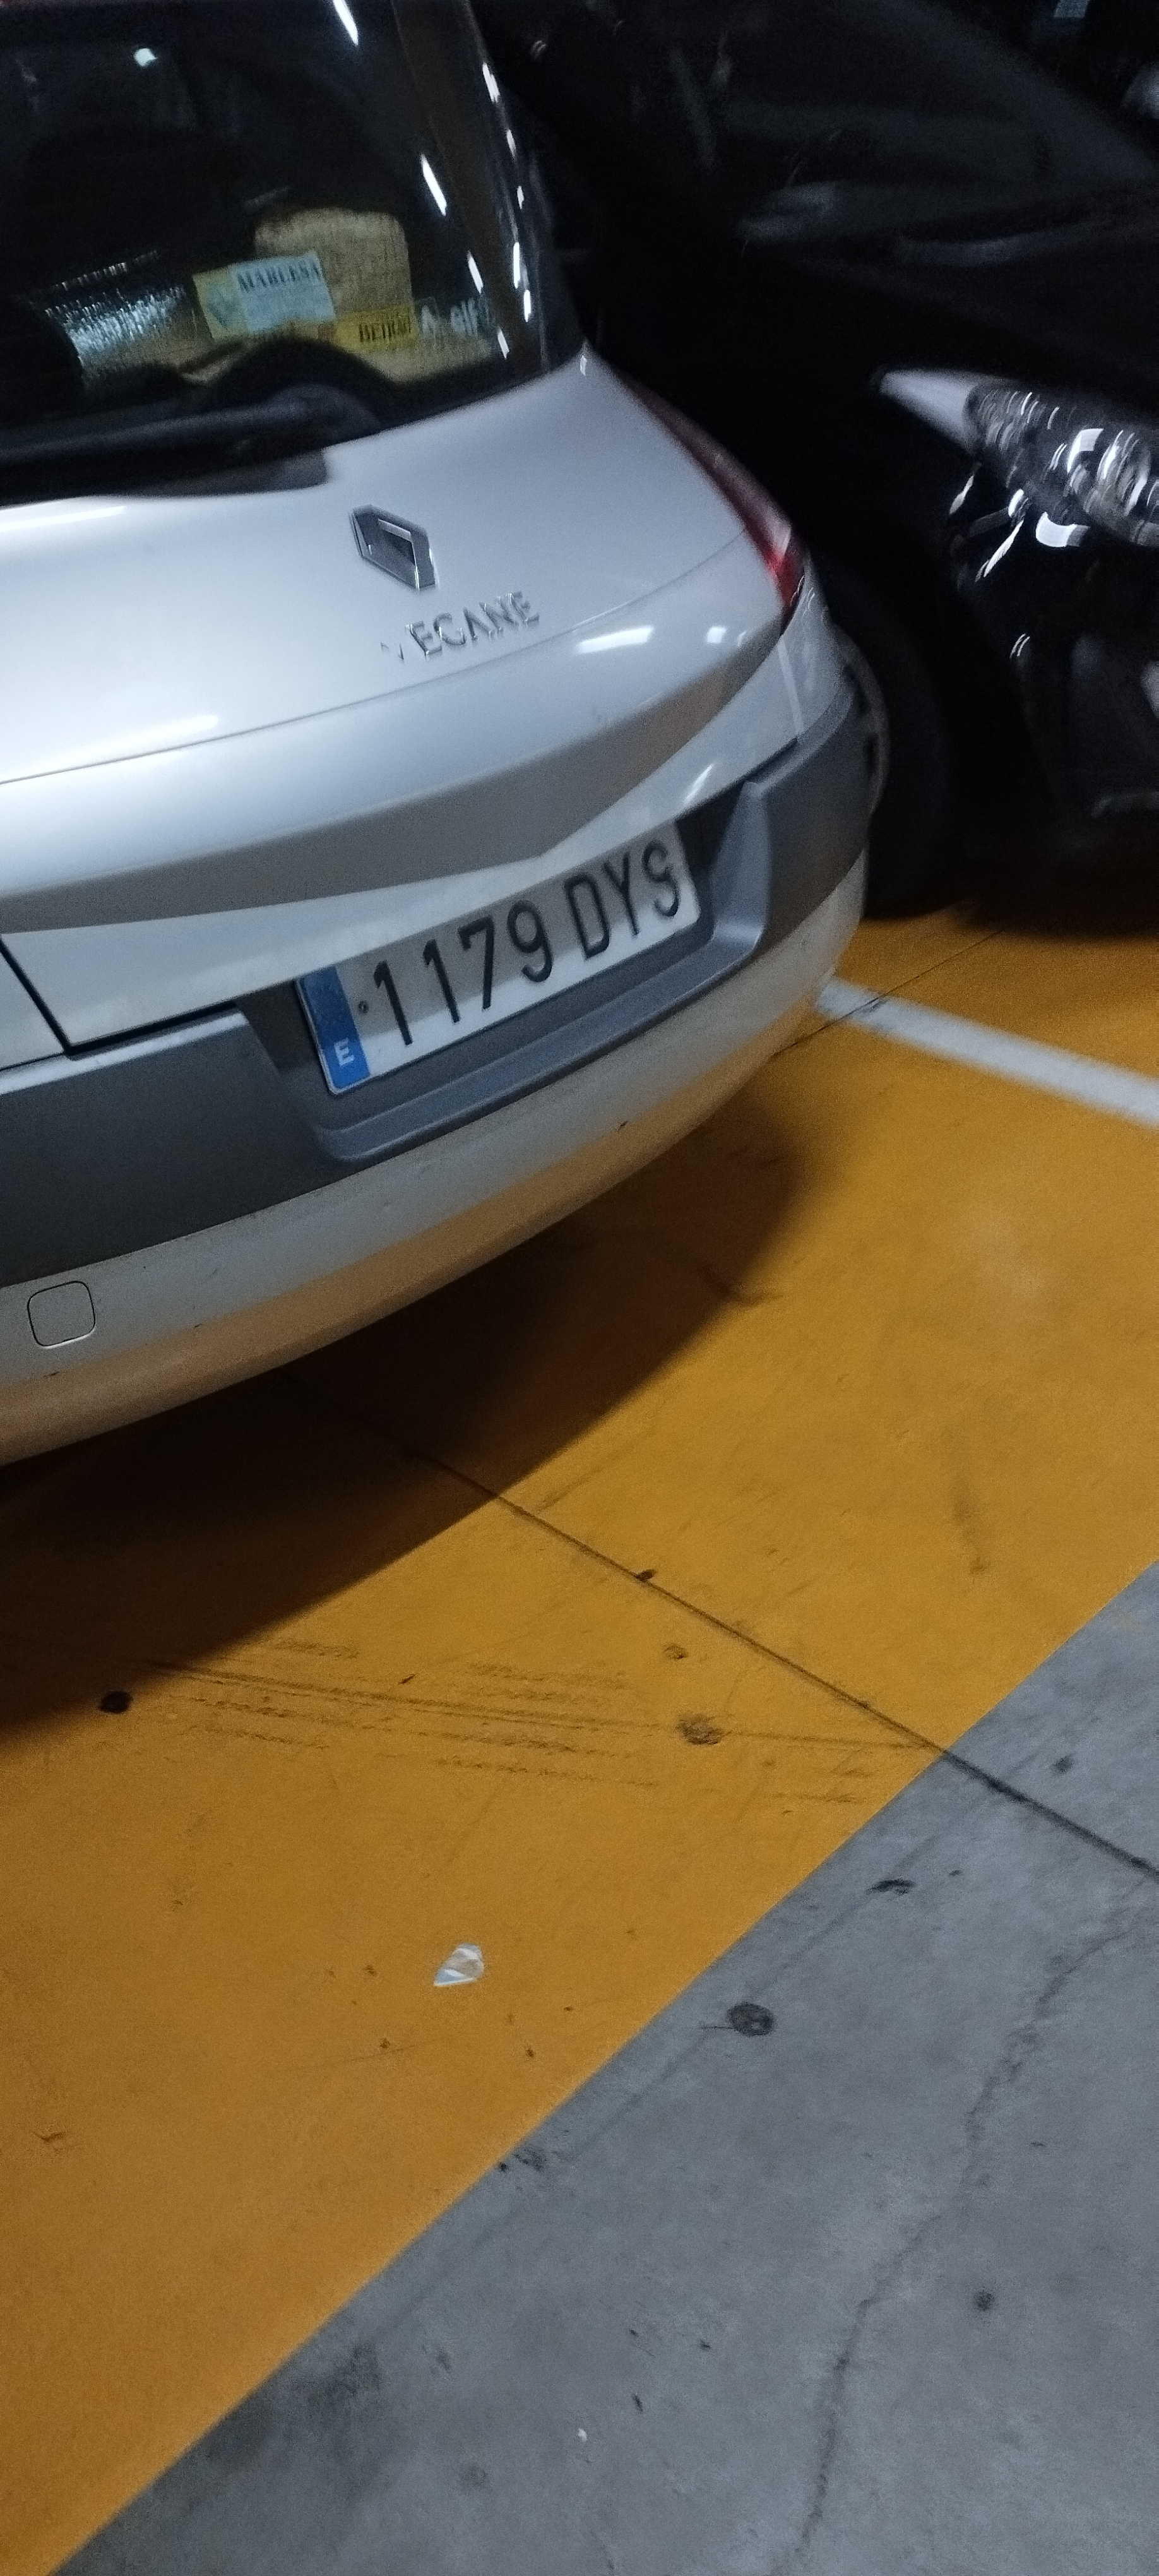Car: (0, 0, 873, 1438)
Plate: (286, 986, 710, 1111)
